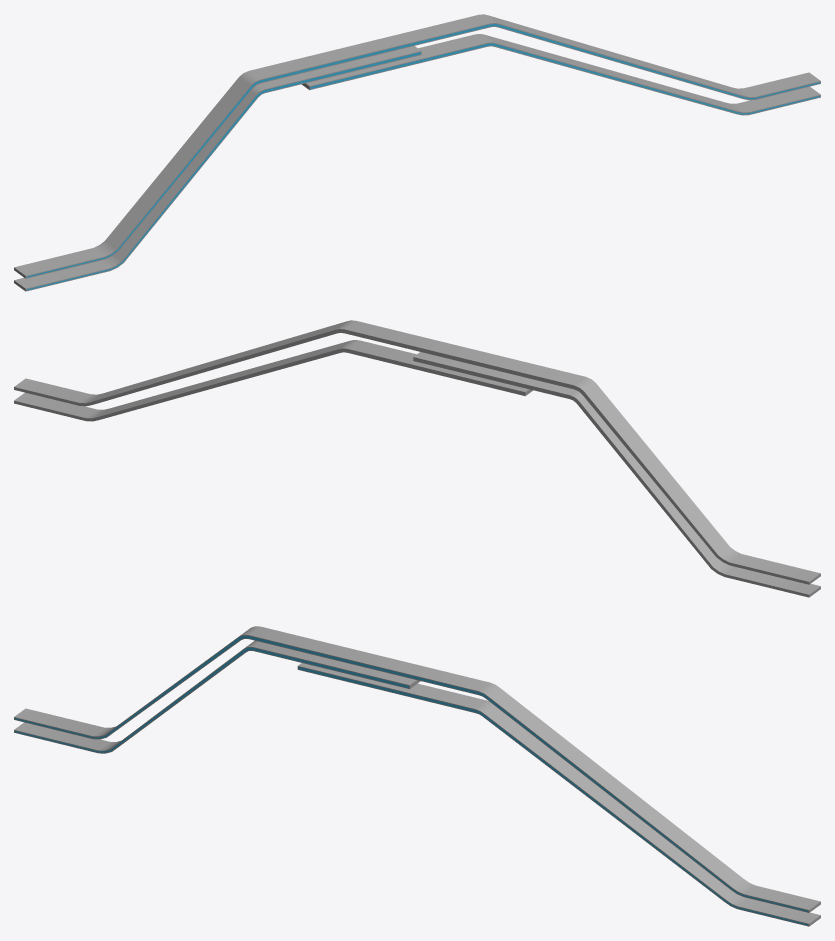
File: W_O_Playground_Stage_001_L1.fbx
3 views of the same model, one above another, from view 1: azimuth 30°, elevation 25°; view 2: azimuth 150°, elevation 25°; view 3: azimuth 330°, elevation 25° (orthographic).
Visible parts, largest first — view 1: W_O_Playground_Stage_001_L1; view 2: W_O_Playground_Stage_001_L1; view 3: W_O_Playground_Stage_001_L1.
Boxes of the visible parts, box(x1,y1,x2,y2) form: W_O_Playground_Stage_001_L1: box(14, 14, 820, 291); W_O_Playground_Stage_001_L1: box(14, 320, 820, 597); W_O_Playground_Stage_001_L1: box(14, 626, 820, 926).
Size of the model in its own units: 38.97 by 1 by 7.25.
